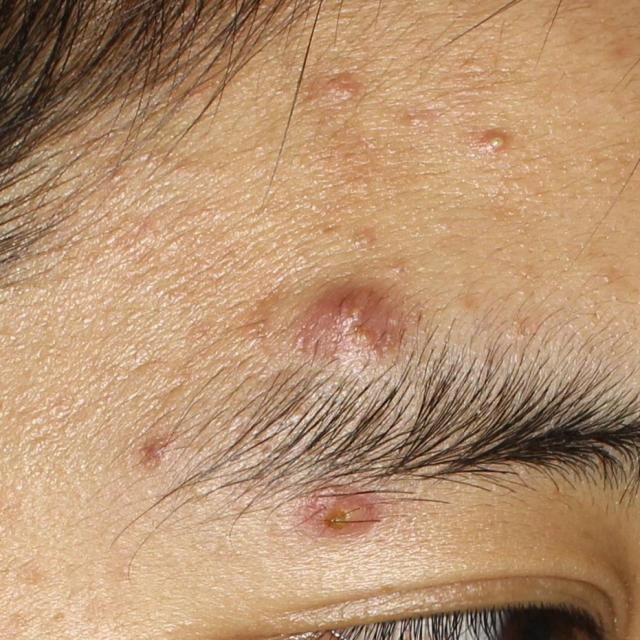nodule: (282, 277, 425, 371)
